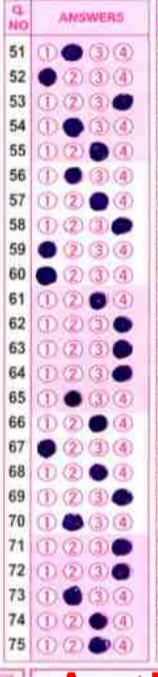filled circles: (63, 117, 83, 137), (88, 637, 111, 654), (89, 141, 108, 161), (36, 266, 56, 285), (37, 439, 56, 459), (61, 43, 82, 61), (62, 513, 83, 531), (113, 339, 132, 358), (63, 585, 81, 605), (112, 93, 133, 110), (111, 217, 132, 234), (89, 192, 108, 210), (88, 414, 107, 432), (38, 67, 56, 86), (112, 538, 132, 555), (112, 488, 132, 505), (112, 365, 132, 382), (38, 240, 56, 258), (111, 563, 130, 580), (89, 463, 107, 480), (89, 612, 107, 629), (89, 291, 106, 309), (113, 316, 132, 332), (64, 167, 81, 184), (64, 390, 81, 406)
